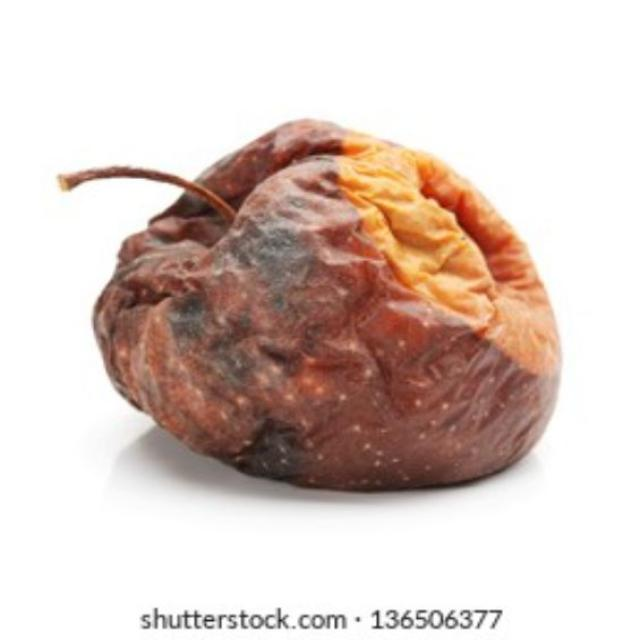Rotten Apple: (51, 86, 587, 510)
